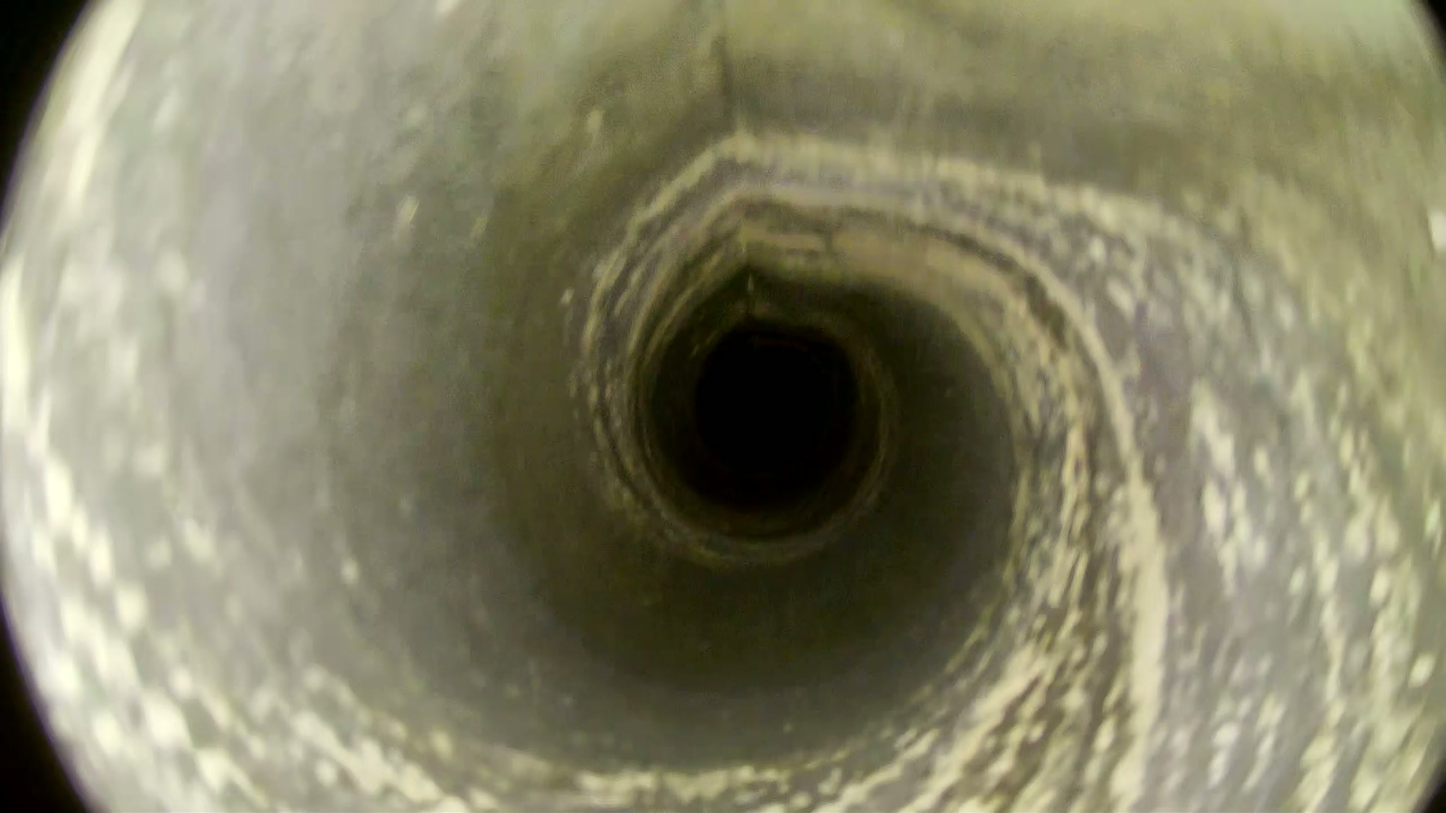hole: (700, 331, 842, 470)
